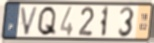1: (100, 5, 110, 39)
2: (78, 6, 96, 38)
3: (117, 6, 136, 39)
4: (59, 5, 75, 38)
Q: (36, 5, 58, 38)
V: (19, 6, 40, 37)
